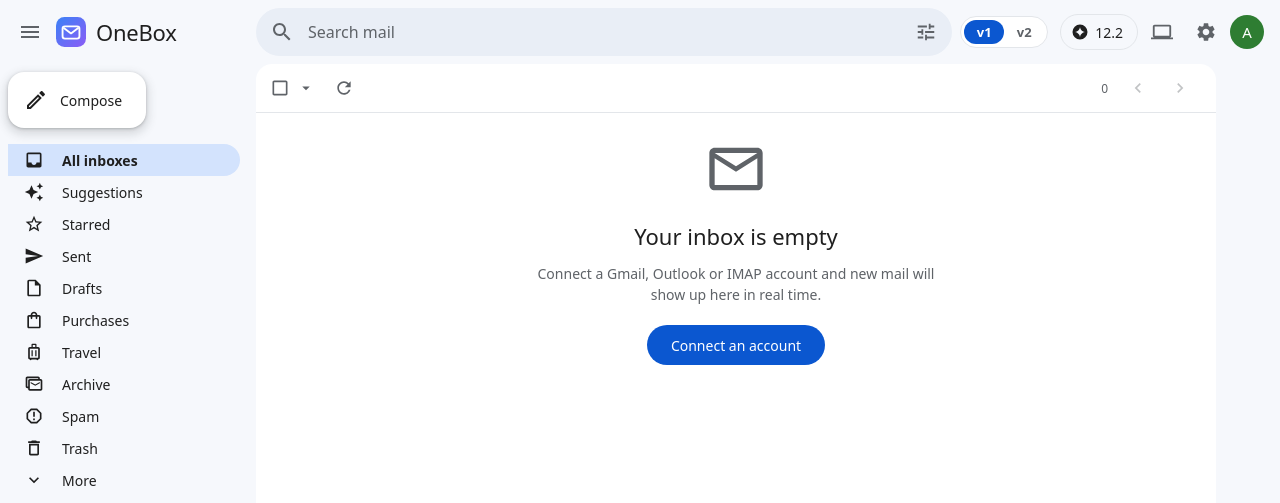
Test: AppShell › collapses the sidebar to icons
What coordinates should you click on to do the following:
click the button named "Main menu"
I would click on:
 (30, 32)
Its box is [12,12,48,52].
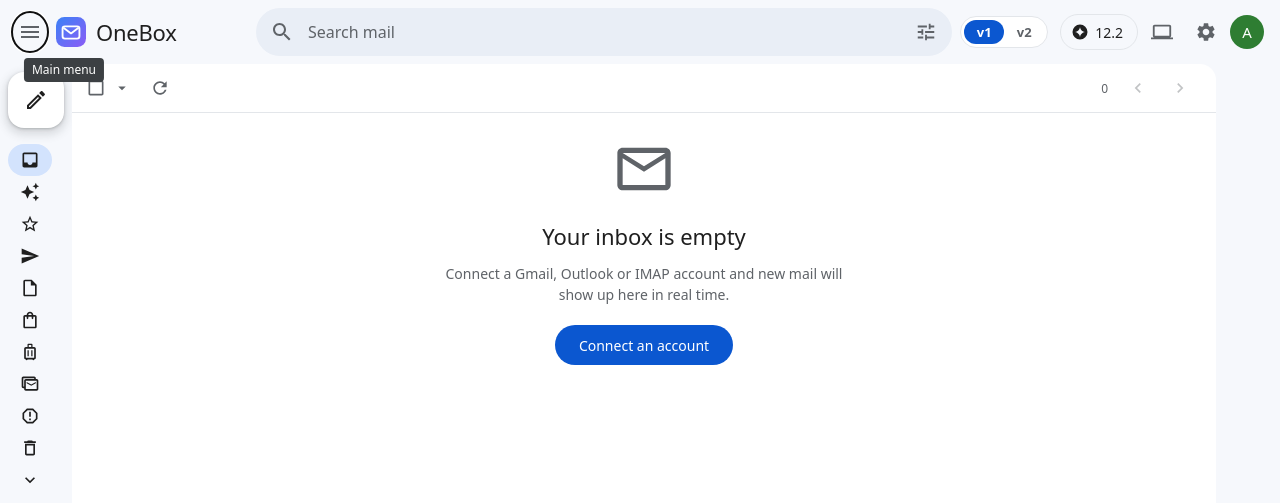
Result: the link "All inboxes" is gone
